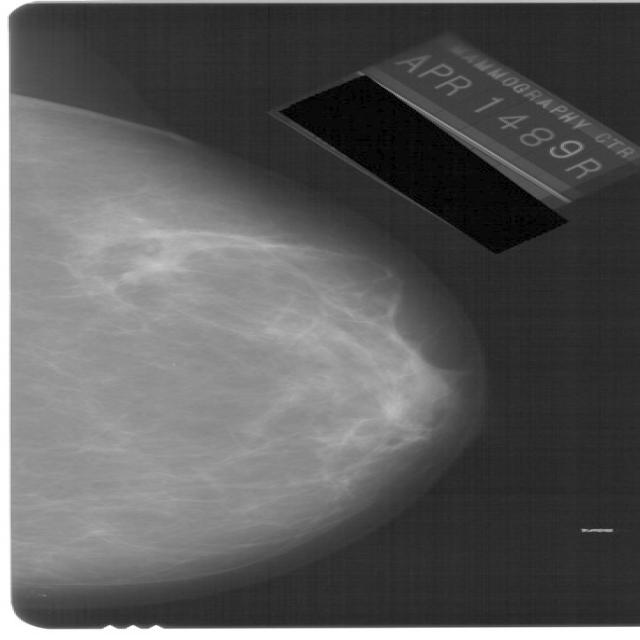tumour: (120, 247, 194, 286)
